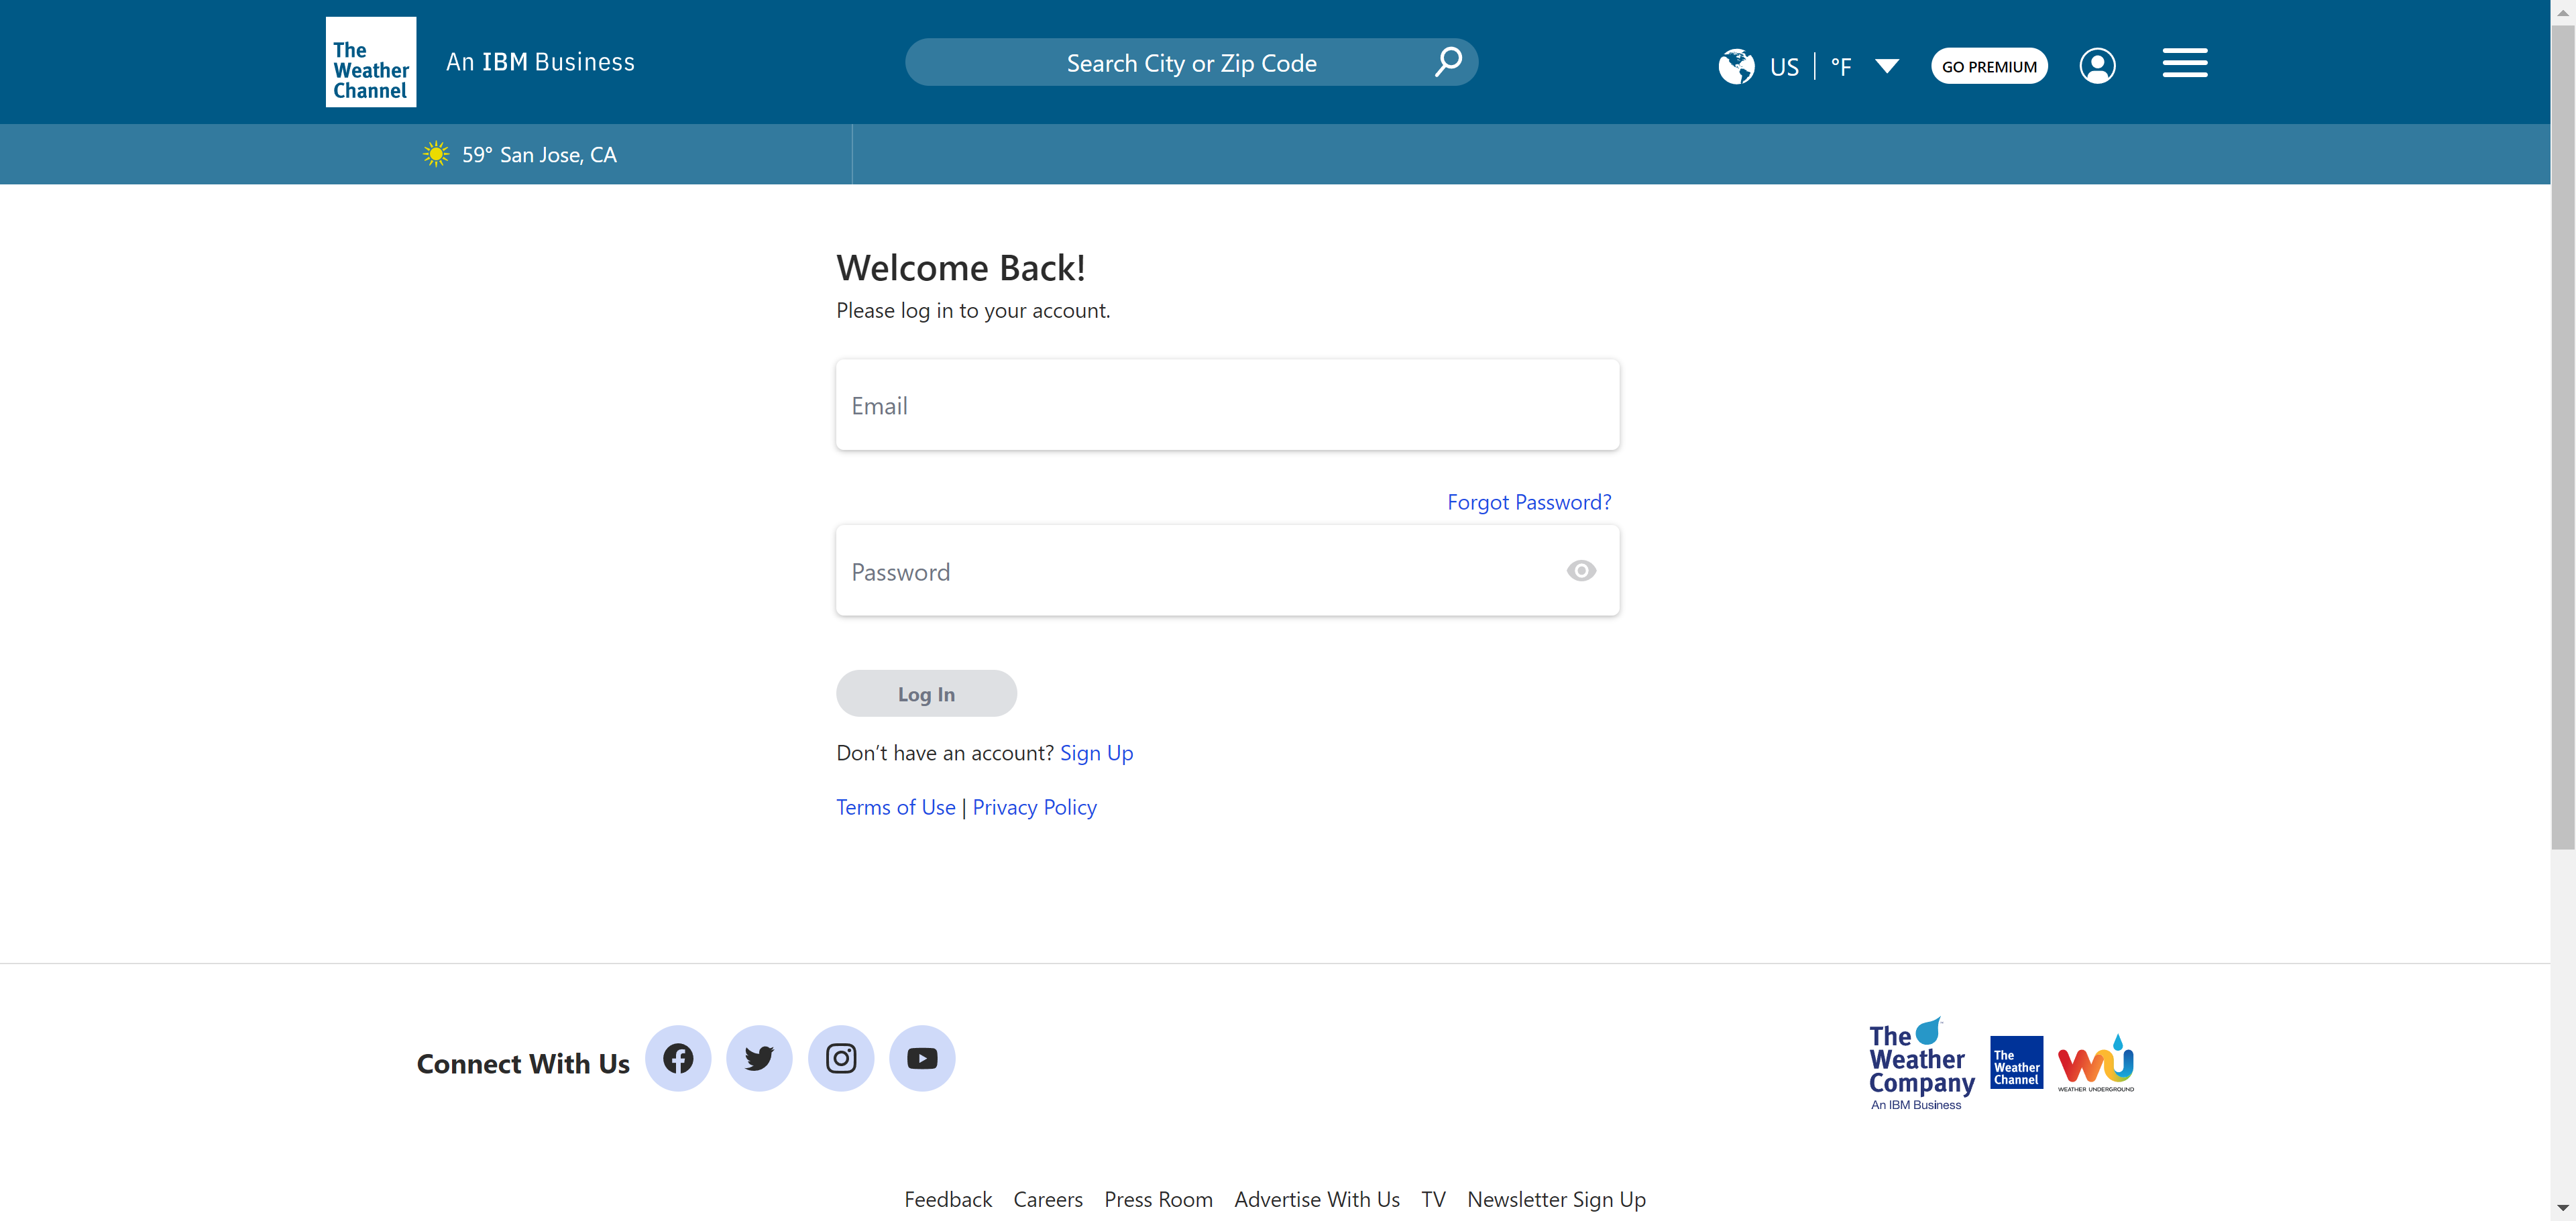login_button: (836, 670, 1017, 716)
login_form: (826, 350, 1628, 723)
